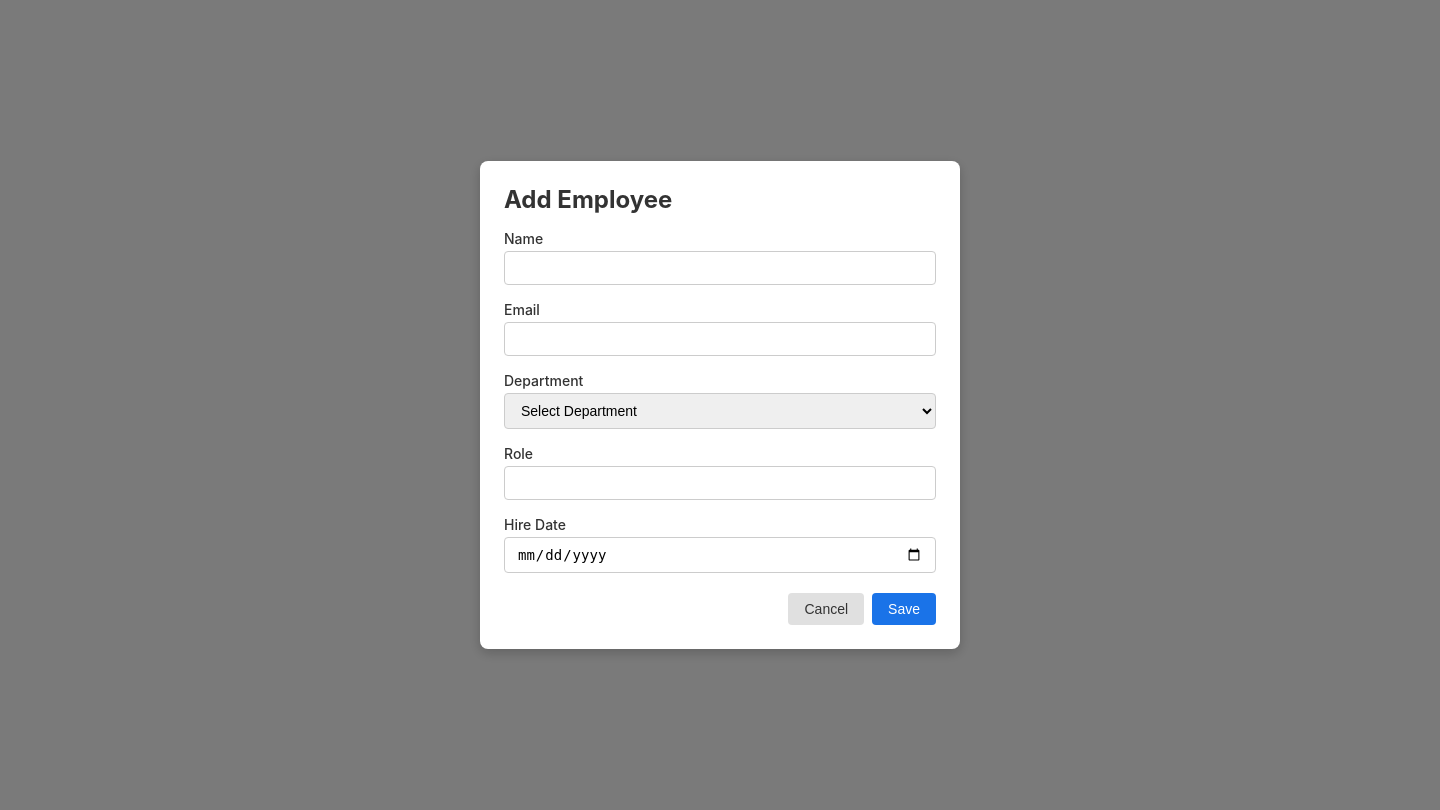
Test: EmployeeForm › should show server error on submit failure
In the field labelled "Name": (720, 268) [504,251,936,285], type "Jane Doe"
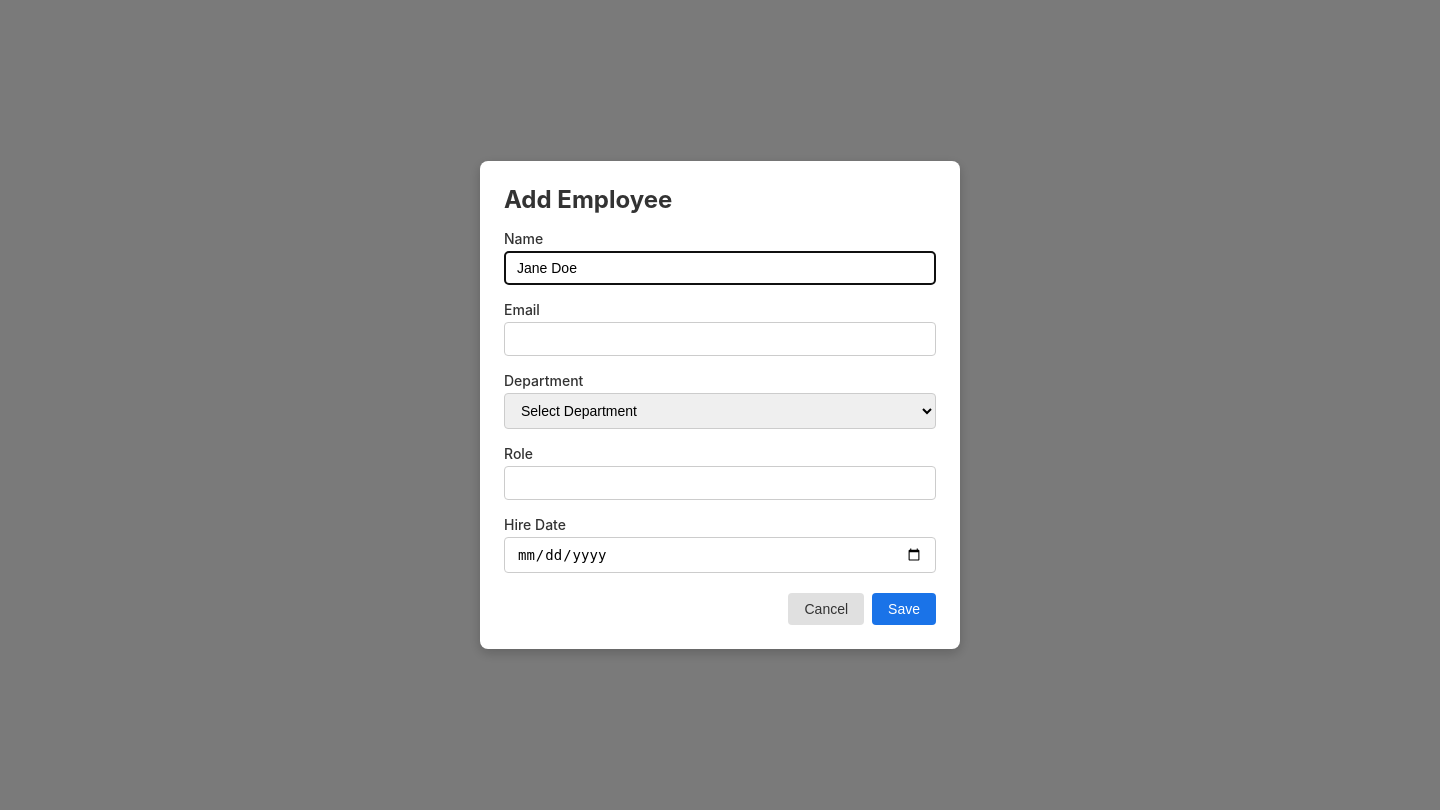
In the field labelled "Email": (720, 339) [504,322,936,356], type "jane@example.com"
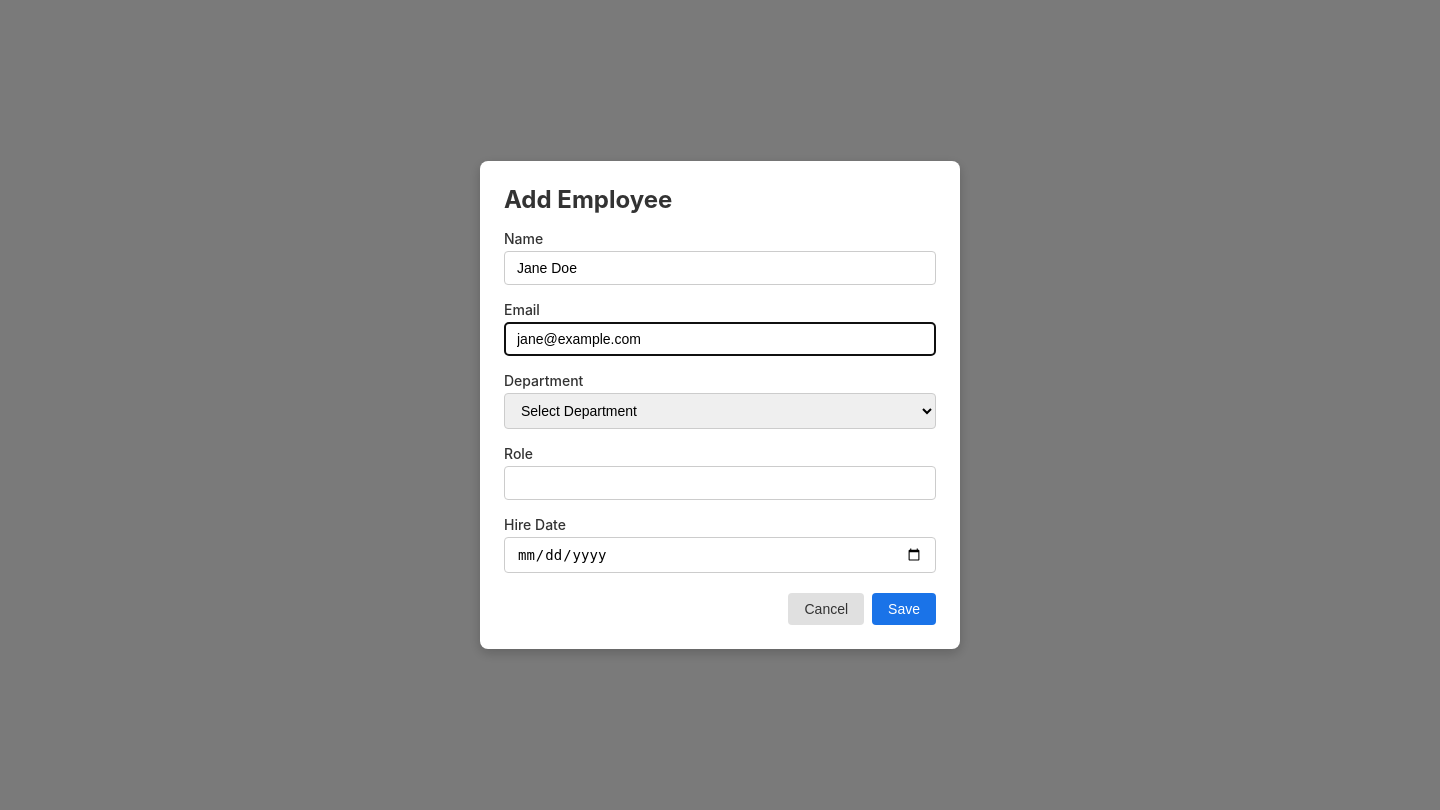
Select "Engineering" in the dropdown labelled "Department": (720, 411) [504,393,936,429]
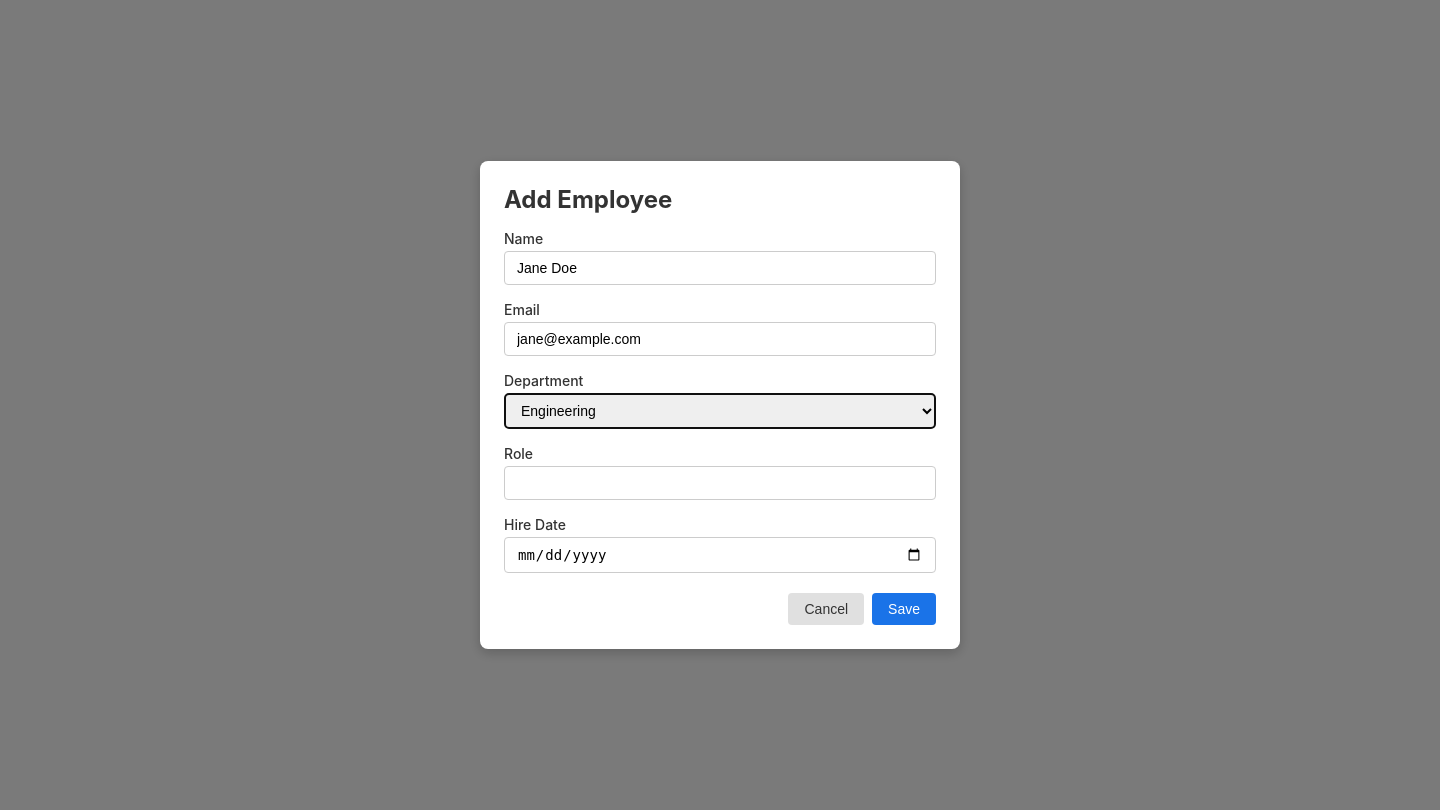
In the field labelled "Role": (720, 483) [504,466,936,500], type "Developer"
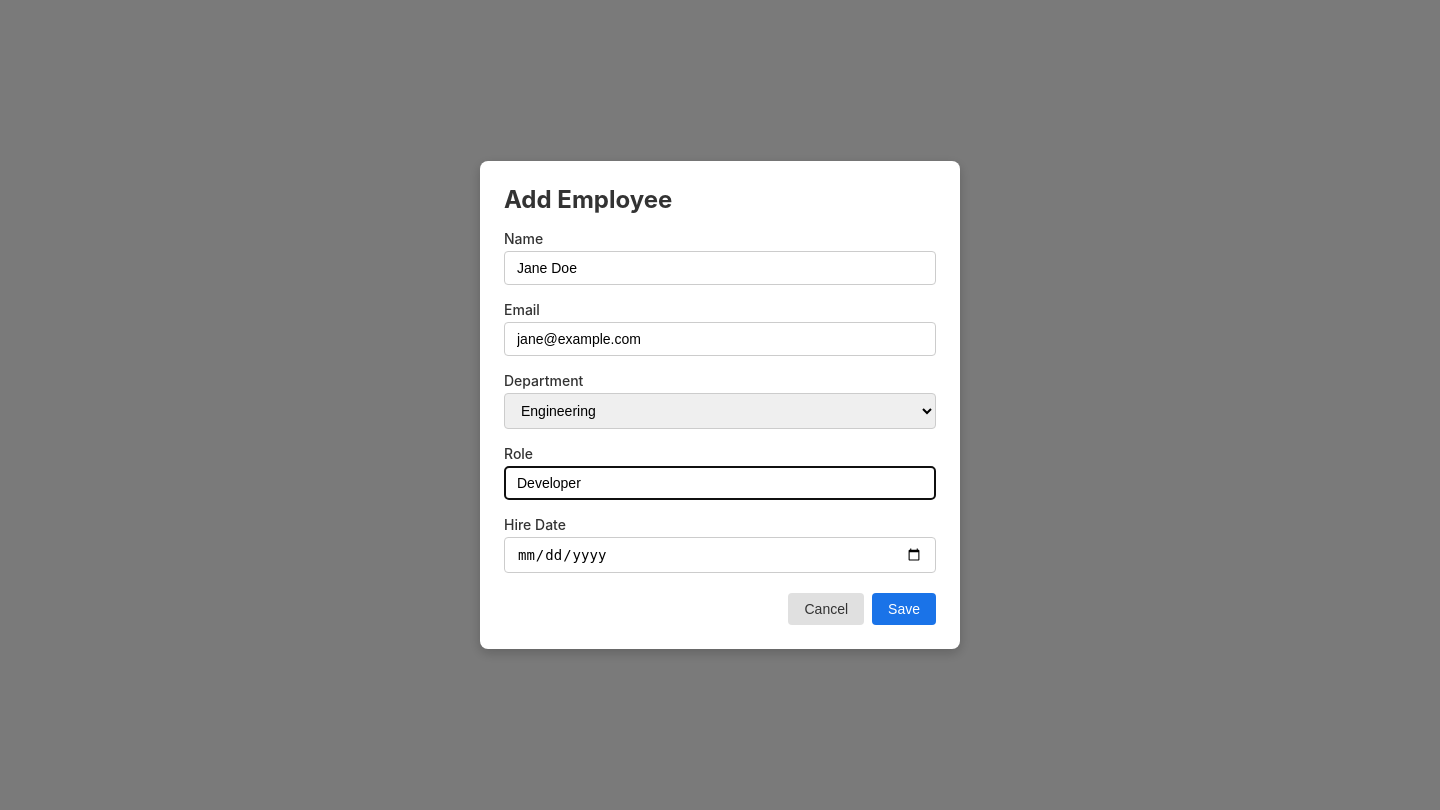
In the date field labelled "Hire Date": (720, 555) [504,537,936,573], type "2024-01-15"
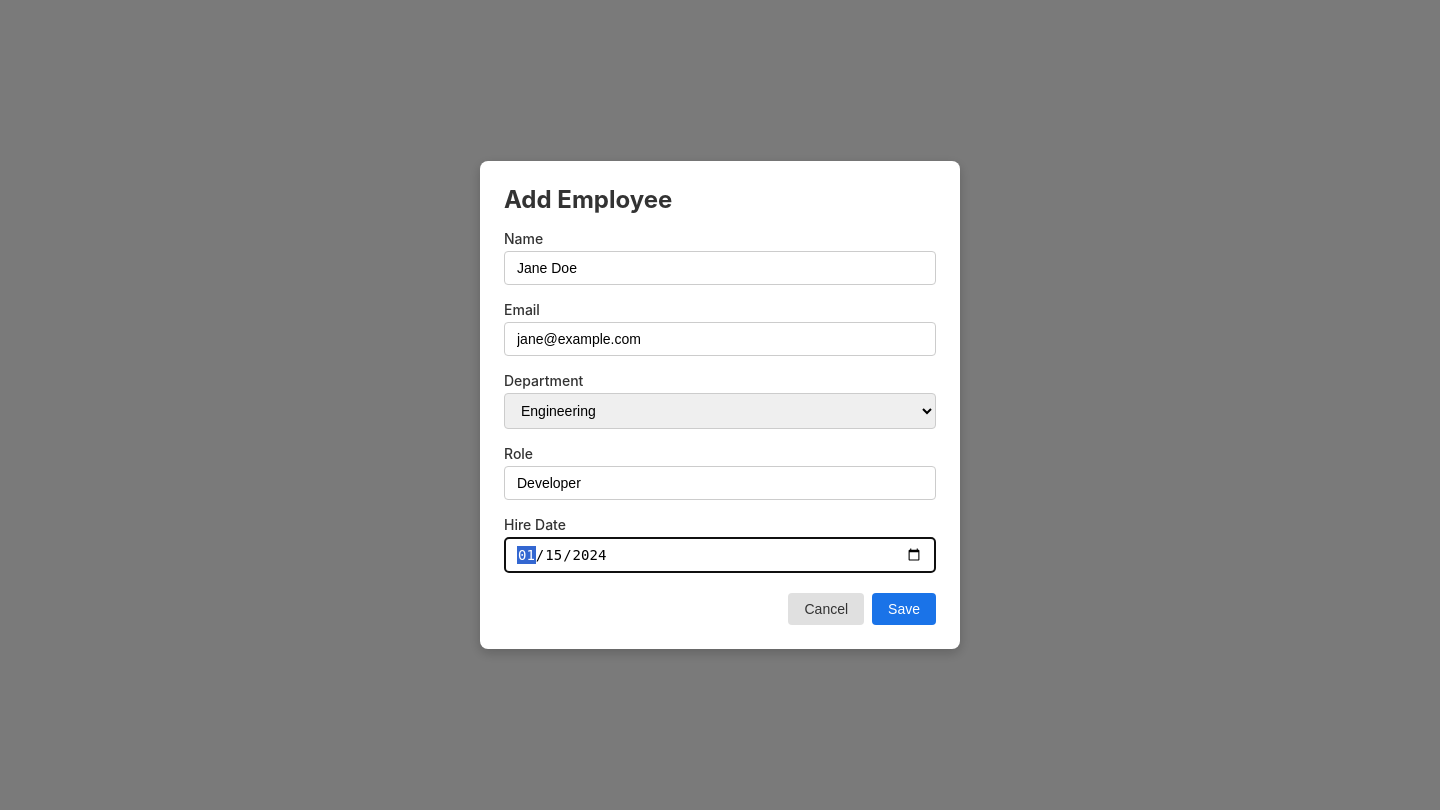
Click the button "Save": (904, 609) [872,593,936,625]
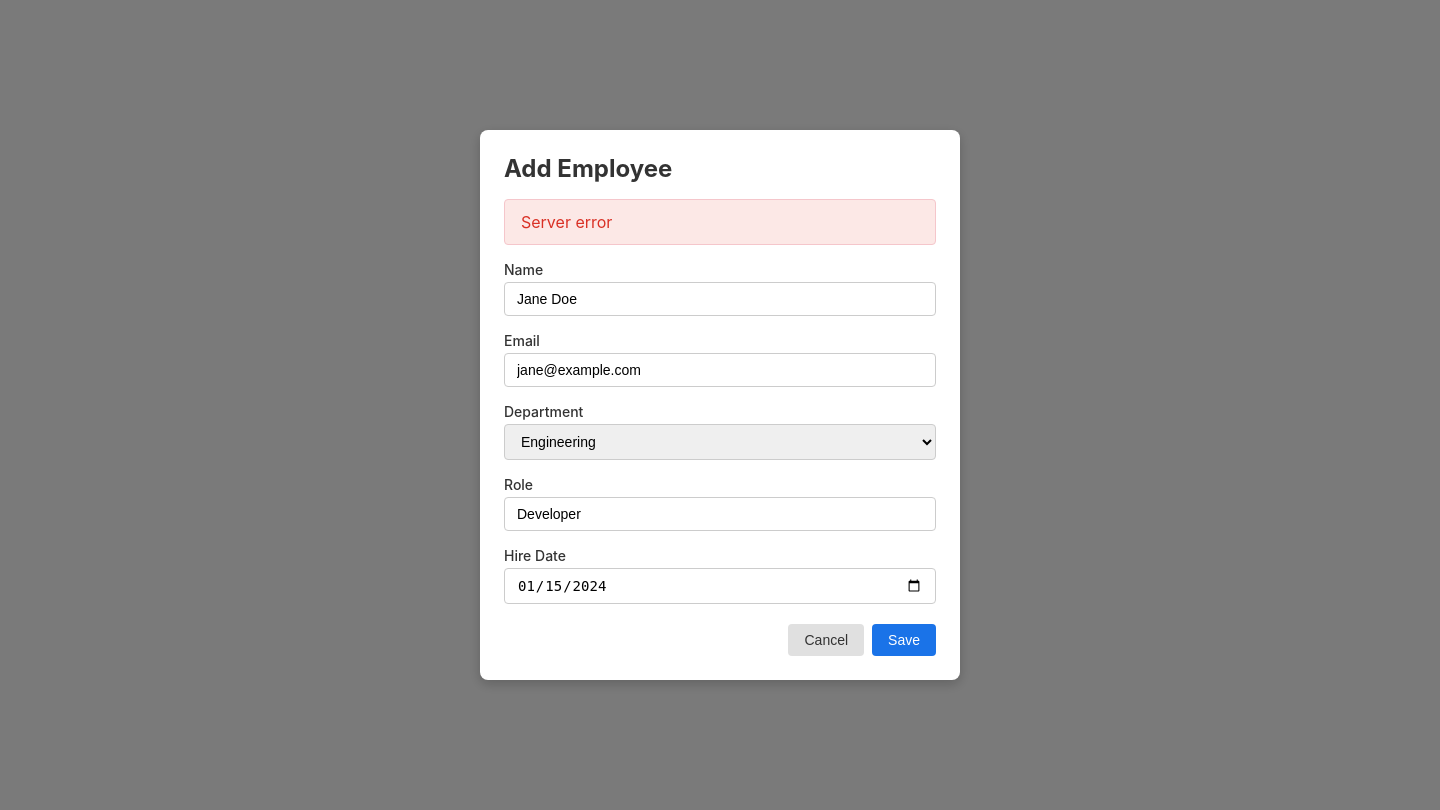
Now the text "Server error" is shown, box [521,212,612,232]
